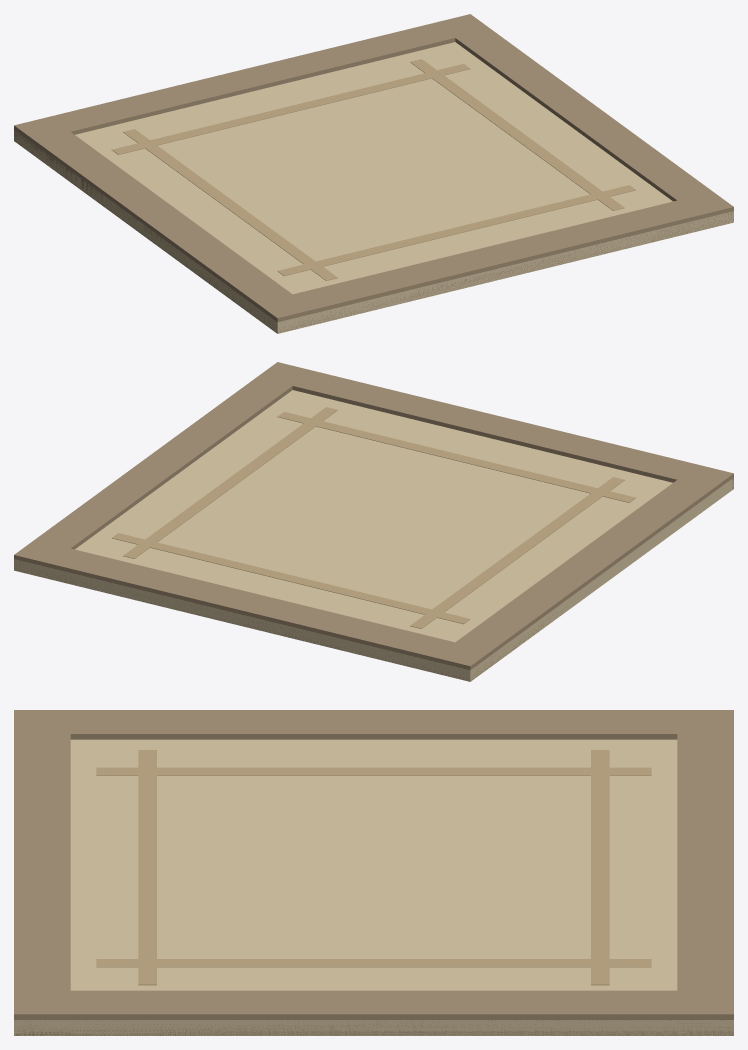
File: slot_pad_s.glb
The picture shows the model from 3 angles, top to bottom: view 1: azimuth 30°, elevation 25°; view 2: azimuth 150°, elevation 25°; view 3: azimuth 270°, elevation 25°; orthographic projection. The views are drawn at different scales.
Visible parts, largest first — view 1: SM_ENV_slot_pad_s; view 2: SM_ENV_slot_pad_s; view 3: SM_ENV_slot_pad_s.
Part boxes in pixels (x1=…): SM_ENV_slot_pad_s: x1=14, y1=14, x2=733, y2=333; SM_ENV_slot_pad_s: x1=14, y1=362, x2=733, y2=681; SM_ENV_slot_pad_s: x1=14, y1=710, x2=733, y2=1035.
Bounding box in the file's own units: 7 × 0.23 × 7.
